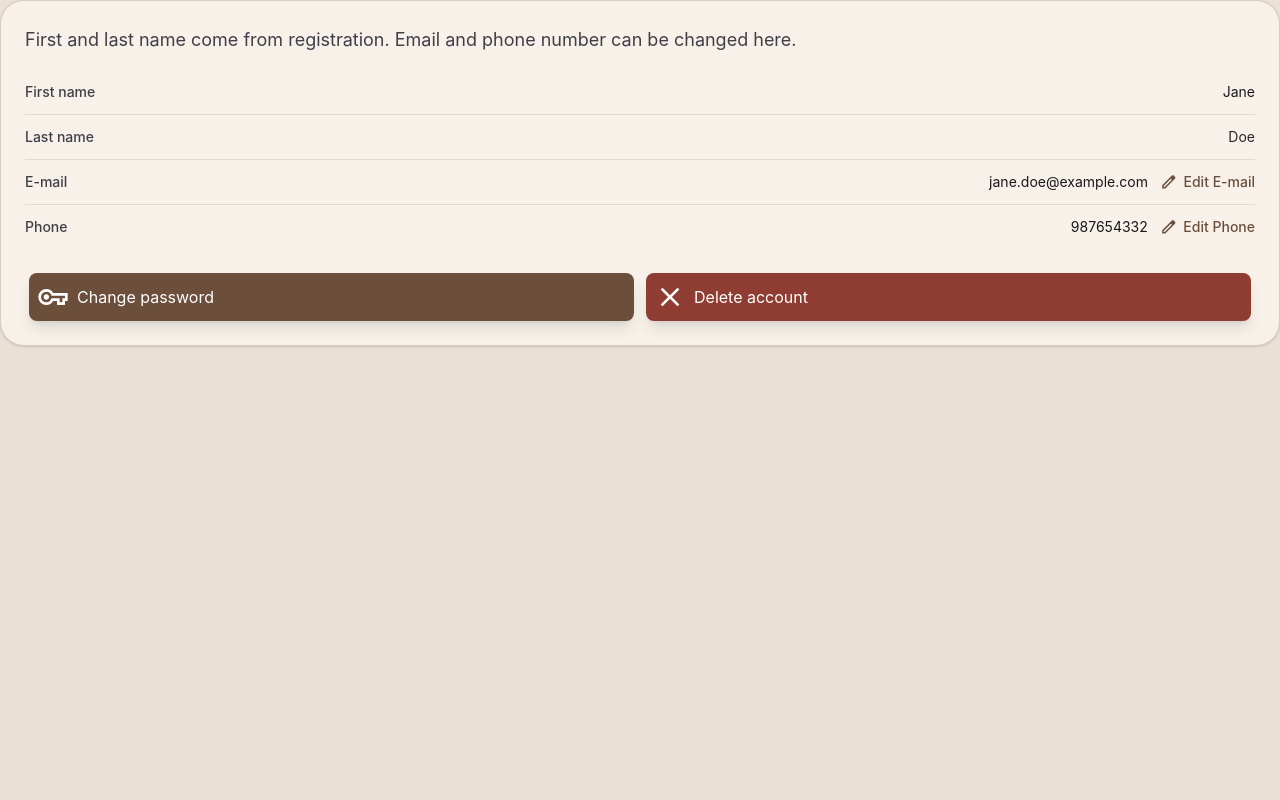
Test: Profile form › returns to the profile fields from the password and delete popups
This screenshot has width=1280, height=800.
Expected: the text "Jane" is shown, top-left (1223, 83), bottom-right (1255, 100)
What coordinates should you click on to do the following:
click the button "Change password"
I would click on:
 (53, 297)
Its box is top-left (29, 273), bottom-right (634, 321).
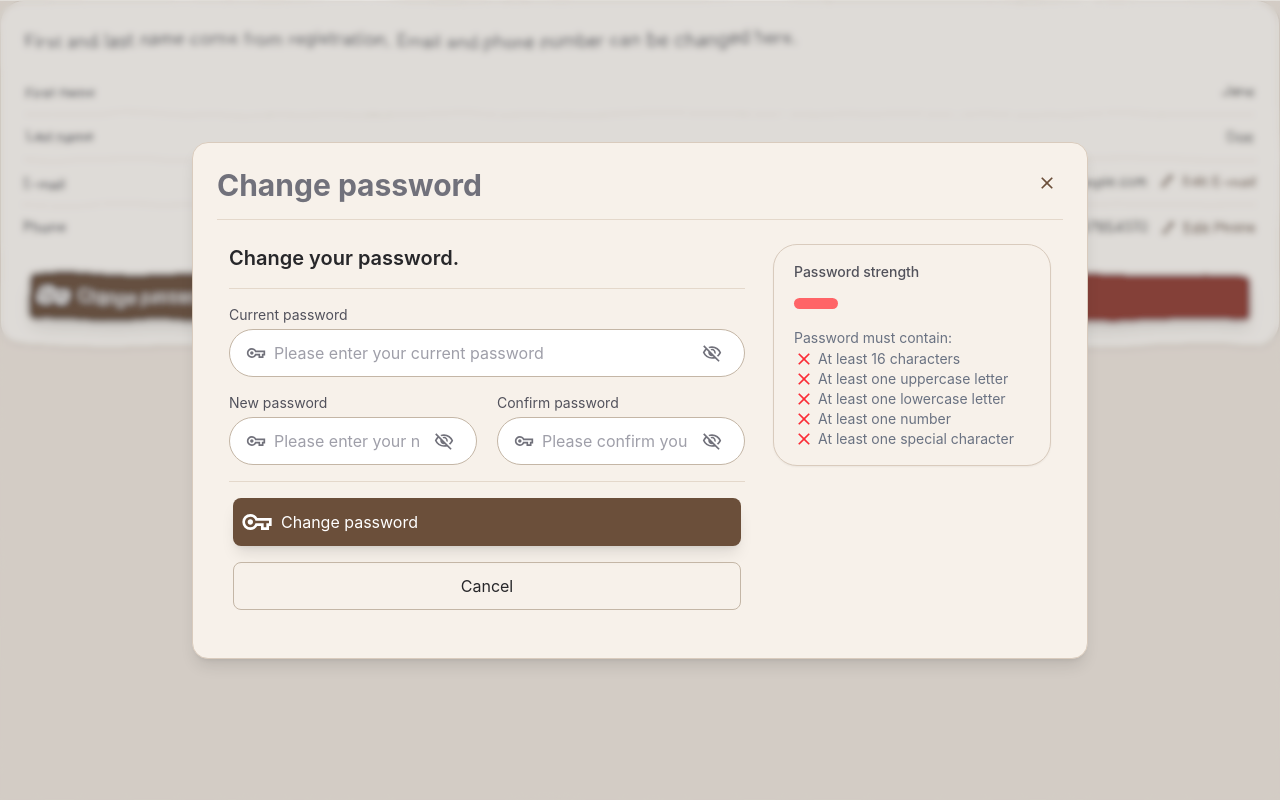
What coordinates should you click on to do the following:
click the button "Cancel"
I would click on:
 (487, 586)
Its box is top-left (233, 562), bottom-right (741, 610).
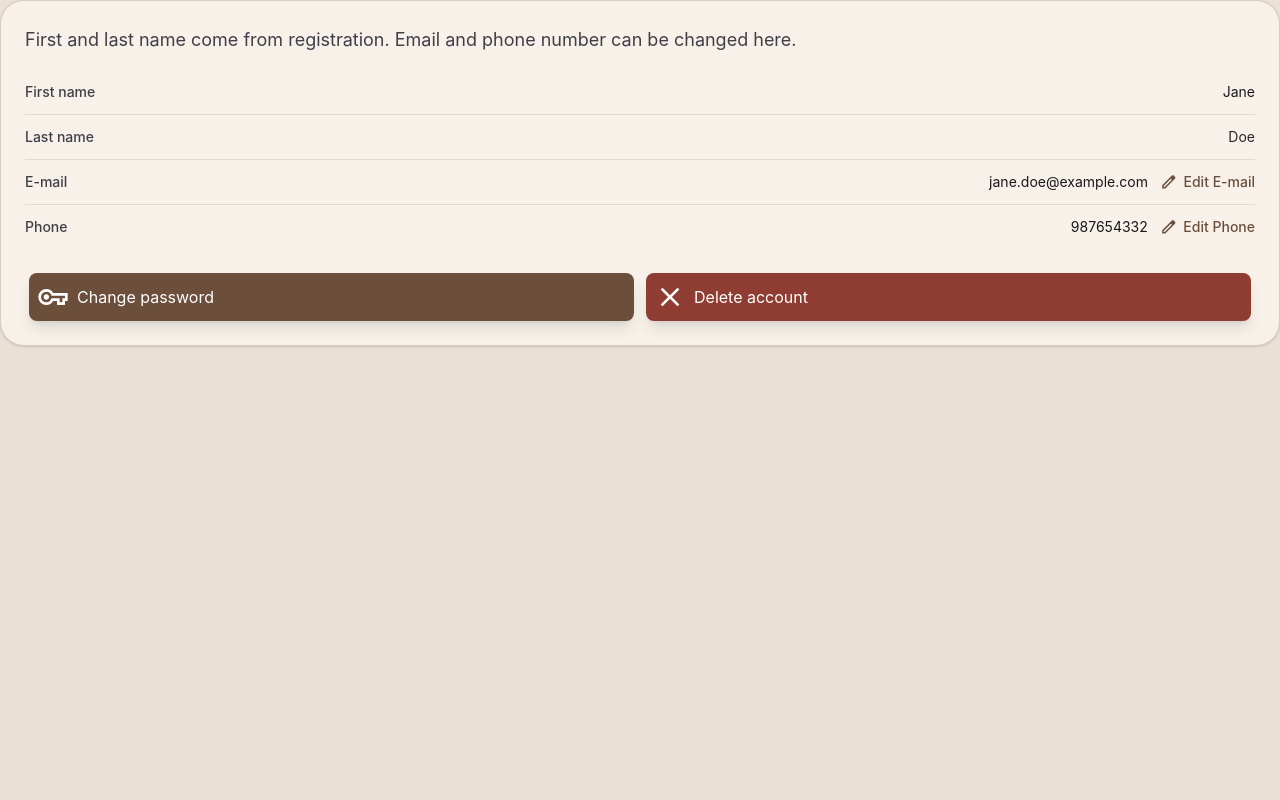
Expected: the text "Jane" is shown, top-left (1223, 83), bottom-right (1255, 100)
Expected: the dialog is gone
What coordinates should you click on to do the following:
click the button "Delete account"
I would click on:
 (670, 297)
Its box is top-left (646, 273), bottom-right (1251, 321).
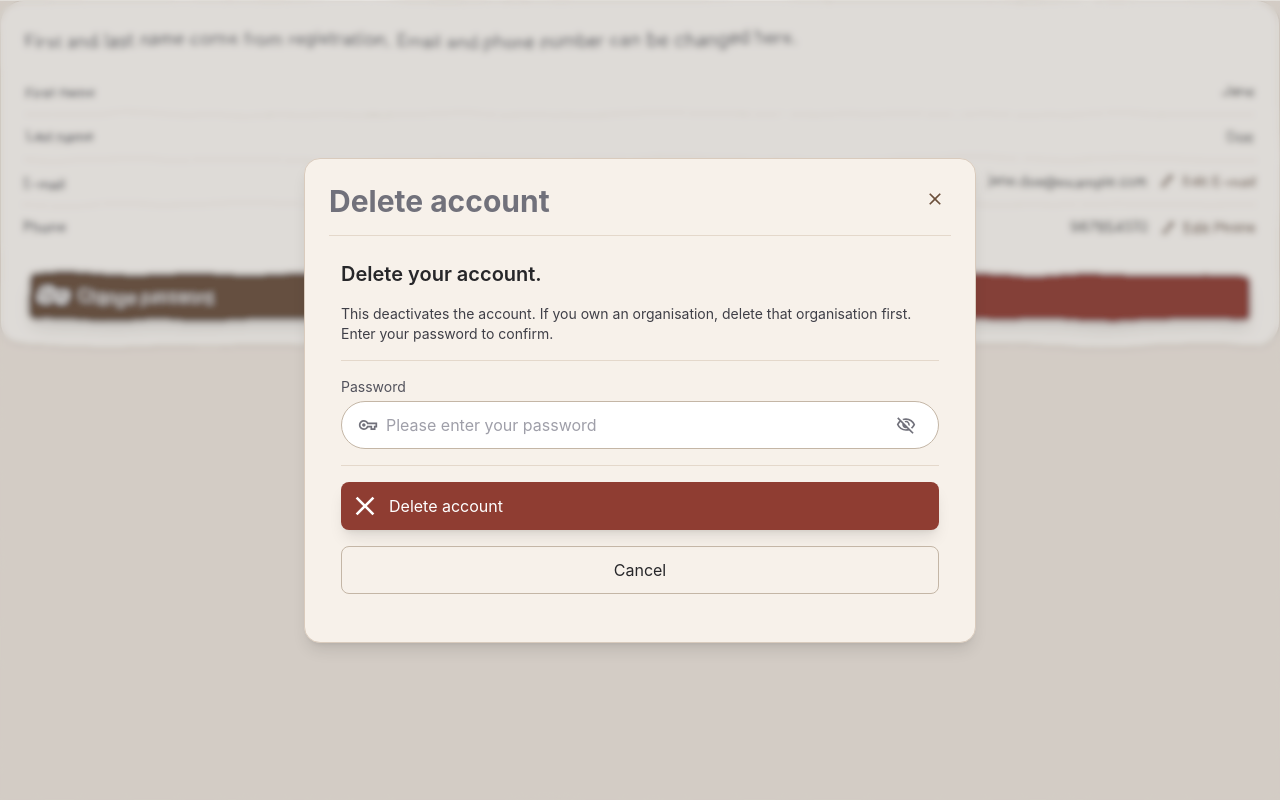
Expected: the heading "Delete your account." is shown, top-left (341, 262), bottom-right (542, 286)
What coordinates should you click on to do the following:
click the button "Cancel"
I would click on:
 (640, 570)
Its box is top-left (341, 546), bottom-right (939, 594).
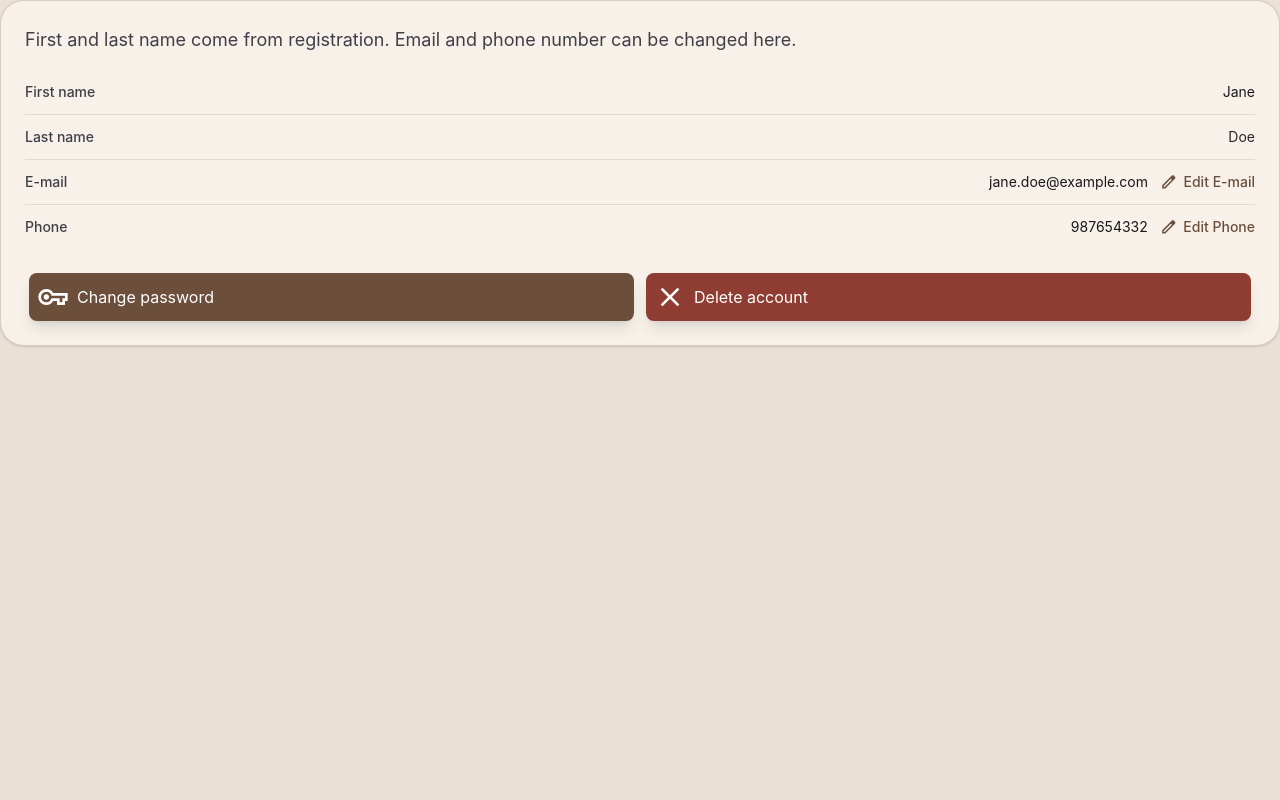
Expected: the dialog is gone
